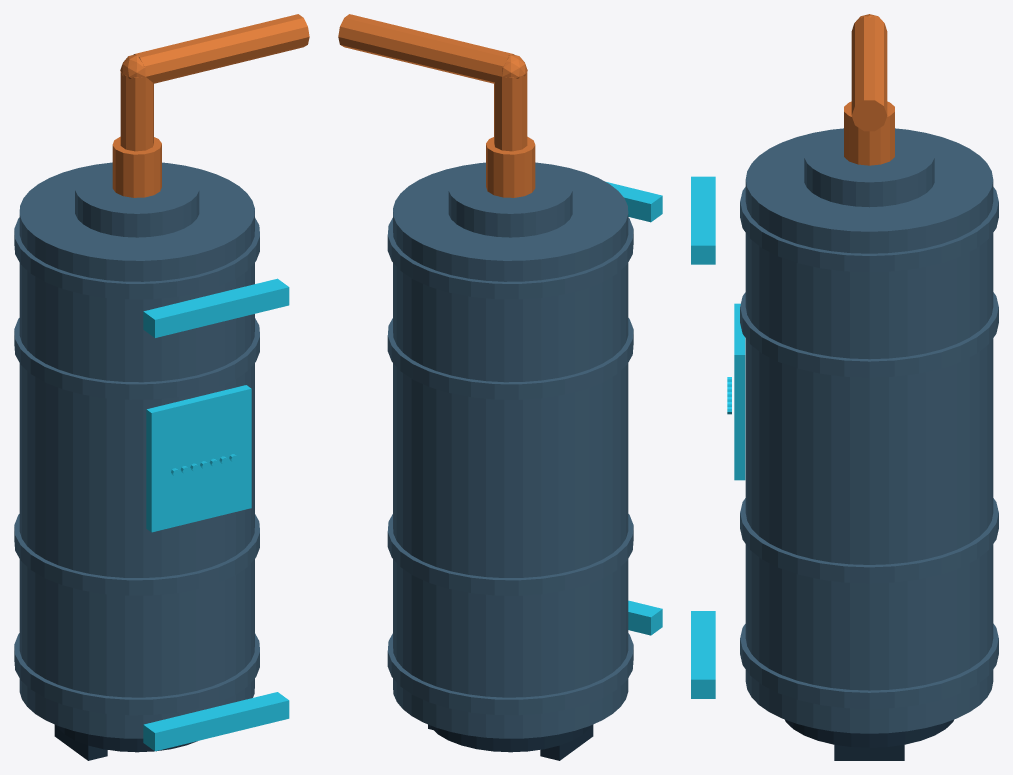
Rendered from 13_L72_VirtualPrecursorSupplyA.fbx.
3 views of the same model, side by side, from view 1: azimuth 30°, elevation 25°; view 2: azimuth 150°, elevation 25°; view 3: azimuth 270°, elevation 25° (orthographic). The views are drawn at different scales.
Parts seen in each view (by area): view 1: VirtualPrecursorSupplyA; view 2: VirtualPrecursorSupplyA; view 3: VirtualPrecursorSupplyA.
Boxes of the visible parts, x1,y1,x2,y2 form: VirtualPrecursorSupplyA: (14, 14, 309, 760); VirtualPrecursorSupplyA: (338, 14, 662, 760); VirtualPrecursorSupplyA: (691, 14, 998, 760).
Size of the model in its own units: 101 by 241 by 94.46.
